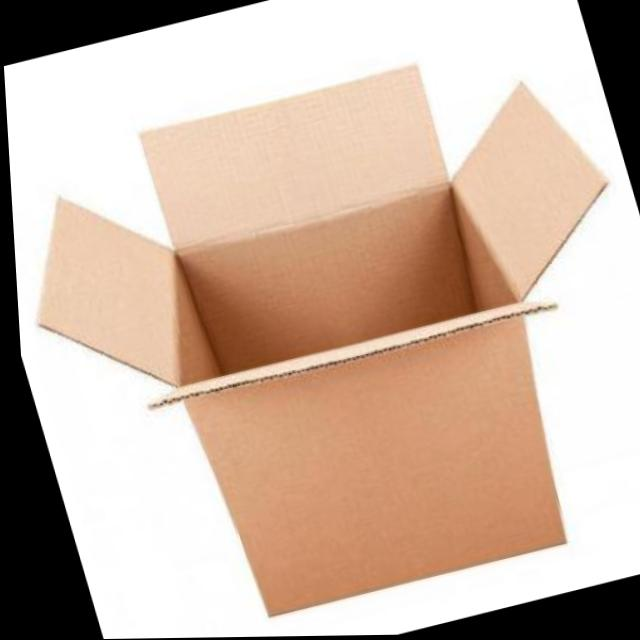box: (1, 9, 640, 640)
